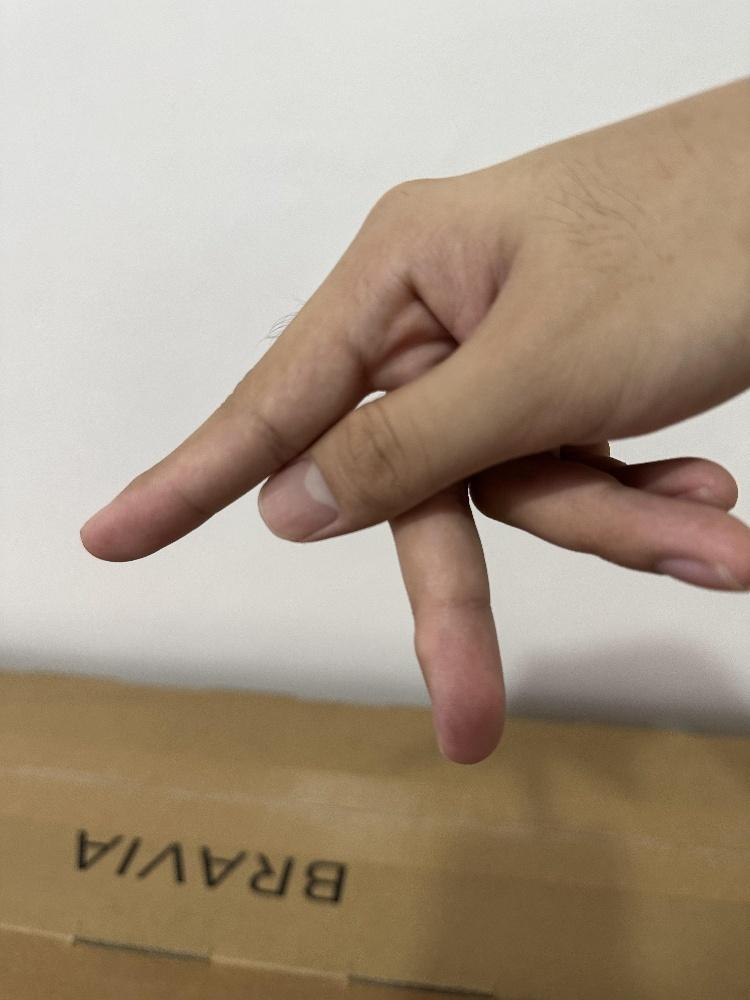p: (76, 73, 749, 768)
